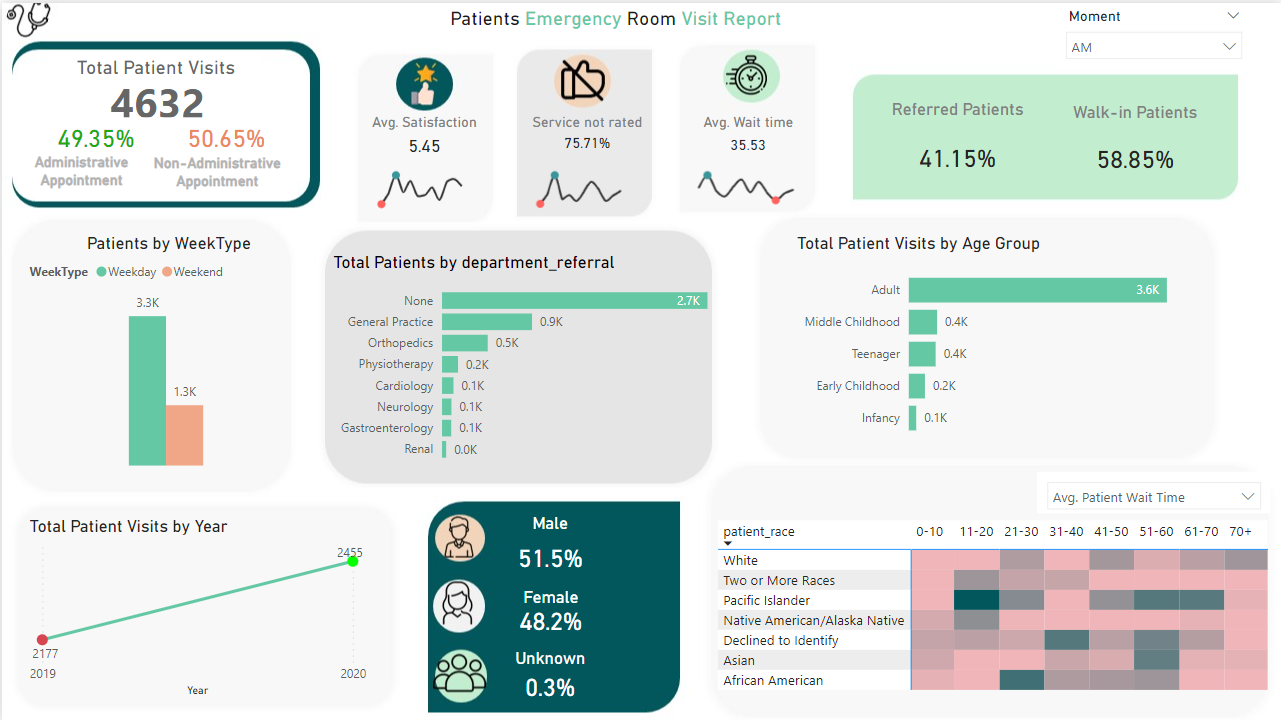

The page's visual inventory and layout, read from the dashboard file:
{"tool":"powerbi","page":{"name":"Page 1","canvas":[1280,720],"ordinal":0},"visuals":[{"type":"card","fields":{"Values":["Calculation.Total Patients"]},"box":[84.9,77.9,141.9,41.9],"z":0},{"type":"card","fields":{"Values":["Calculation.Percentage of Admins"]},"box":[32.6,119.8,123.3,29.1],"z":1000},{"type":"card","fields":{"Values":["Calculation.Percentage of Non-Admins"]},"box":[162.8,115.1,123.3,39.5],"z":2000},{"type":"card","title":"Avg. Satisfaction","fields":{"Values":["Calculation.Average Satisfaction Score"]},"box":[354.7,110.5,134.9,50],"z":3000},{"type":"card","title":"Service  not rated","fields":{"Values":["Calculation.% of No Rating"]},"box":[520.9,110.5,127.9,44.2],"z":4000},{"type":"card","title":"Avg. Wait time","fields":{"Values":["Calculation.Average Patient Wait Time"]},"box":[687.2,110.5,117.4,39.5],"z":5000},{"type":"pivotTable","fields":{"Values":["Calculation.Average Patient Wait Time"],"Rows":["Patients Dataset.patient_race"],"Columns":["Patients Dataset.Age bucket"]},"box":[711.6,512.8,568.6,190.7],"z":6000},{"type":"slicer","fields":{"Values":["Parameter.Parameter"]},"box":[1034.9,468.6,233.7,41.9],"z":7000},{"type":"clusteredBarChart","fields":{"Category":["Patients Dataset.Age Group"],"Y":["Calculation.Total Patients"]},"box":[789.5,230.2,402.3,216.3],"z":8000},{"type":"lineChart","fields":{"Y":["Calculation.Total Patients"],"Category":["Date.Year"]},"box":[22.1,512.8,346.5,186],"z":9000},{"type":"clusteredBarChart","title":"Total Patients by department_referral","fields":{"Category":["Patients Dataset.department_referral"],"Y":["Calculation.Total Patient Visits"]},"box":[326.2,248.8,406.2,220],"z":10000},{"type":"textbox","box":[22.1,145.3,114,48.8],"z":11000},{"type":"textbox","box":[135.8,145.8,158,49],"z":12000},{"type":"clusteredColumnChart","title":" Patients by WeekType","fields":{"Y":["Calculation.Total Patient Visits"],"Series":["Date.WeekType"]},"box":[22.5,230,288.8,238.8],"z":13000},{"type":"card","title":"Female","fields":{"Values":["Calculation.% of Female visits"]},"box":[486.2,583.8,125,48.8],"z":14000},{"type":"card","title":"Male","fields":{"Values":["Calculation.% of Male Visit"]},"box":[490,510,116.2,71.2],"z":15000},{"type":"card","title":"Unknown","fields":{"Values":["Calculation.% Unknown"]},"box":[498.8,645,98.8,58.8],"z":16000},{"type":"textbox","box":[48.8,48.8,210.5,33.7],"z":17000},{"type":"PBI_CV_25997FEB_F466_44FA_B562_AC4063283C4C","fields":{"measure":["Calculation.Average Satisfaction Score"],"axis":["Date.Month"]},"box":[361.6,154.7,119.8,57],"z":18000},{"type":"PBI_CV_25997FEB_F466_44FA_B562_AC4063283C4C","fields":{"measure":["Calculation.% No Rating"],"axis":["Date.Month"]},"box":[520,154.4,120,56.7],"z":19000},{"type":"PBI_CV_25997FEB_F466_44FA_B562_AC4063283C4C","fields":{"measure":["Calculation.Average Patient Wait Time"],"axis":["Date.Month"]},"box":[679.2,154.6,133.8,53.1],"z":20000},{"type":"textbox","box":[422.5,0,382.5,40],"z":21000},{"type":"card","title":"Referred Patients","fields":{"Values":["Calculation.% of Referred Patients"]},"box":[857.5,96.2,196.2,97.5],"z":22000},{"type":"card","title":"Walk-in Patients","fields":{"Values":["Calculation.% of Un-Referred Patients"]},"box":[1053.8,98.8,158.8,95],"z":23000},{"type":"slicer","fields":{"Values":["Patients Dataset.Moment"]},"box":[1053.5,0,196.5,66.3],"z":24000}]}

Visuals, with their boxes in screenshot pixels (x1, y1, x2, y2), scaled from the page's 1280x720 canvas onto the 1281x720 screenshot:
card - Calculation.Total Patients: (85,78,227,120)
card - Calculation.Percentage of Admins: (33,120,156,149)
card - Calculation.Percentage of Non-Admins: (163,115,286,155)
"Avg. Satisfaction" card: (355,110,490,160)
"Service  not rated" card: (521,110,649,155)
"Avg. Wait time" card: (688,110,805,150)
pivotTable - Calculation.Average Patient Wait Time x Patients Dataset.patient_race: (712,513,1280,704)
slicer - Parameter.Parameter: (1036,469,1270,510)
clusteredBarChart - Patients Dataset.Age Group x Calculation.Total Patients: (790,230,1193,446)
lineChart - Calculation.Total Patients x Date.Year: (22,513,369,699)
"Total Patients by department_referral" clusteredBarChart: (326,249,733,469)
textbox: (22,145,136,194)
textbox: (136,146,294,195)
" Patients by WeekType" clusteredColumnChart: (23,230,312,469)
"Female" card: (487,584,612,633)
"Male" card: (490,510,607,581)
"Unknown" card: (499,645,598,704)
textbox: (49,49,260,82)
PBI_CV_25997FEB_F466_44FA_B562_AC4063283C4C - Calculation.Average Satisfaction Score x Date.Month: (362,155,482,212)
PBI_CV_25997FEB_F466_44FA_B562_AC4063283C4C - Calculation.% No Rating x Date.Month: (520,154,640,211)
PBI_CV_25997FEB_F466_44FA_B562_AC4063283C4C - Calculation.Average Patient Wait Time x Date.Month: (680,155,814,208)
textbox: (423,0,806,40)
"Referred Patients" card: (858,96,1055,194)
"Walk-in Patients" card: (1055,99,1214,194)
slicer - Patients Dataset.Moment: (1054,0,1251,66)
